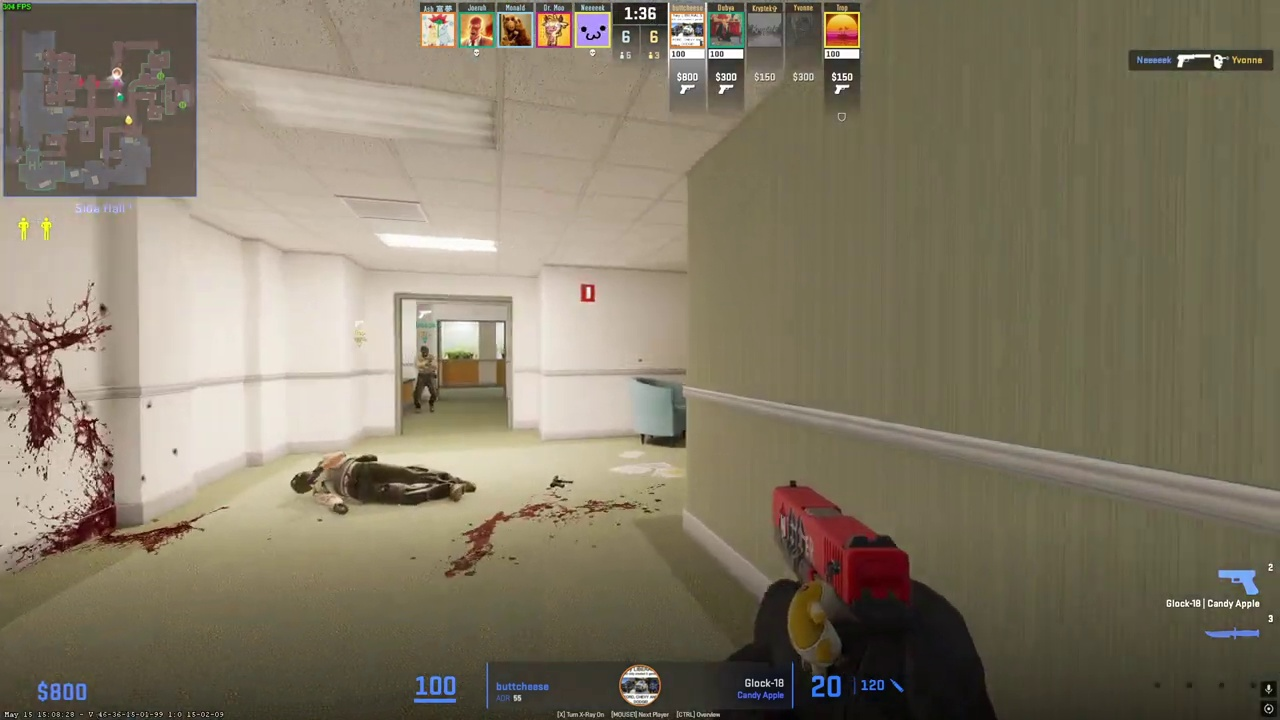Terrorist: (413, 346, 438, 412)
